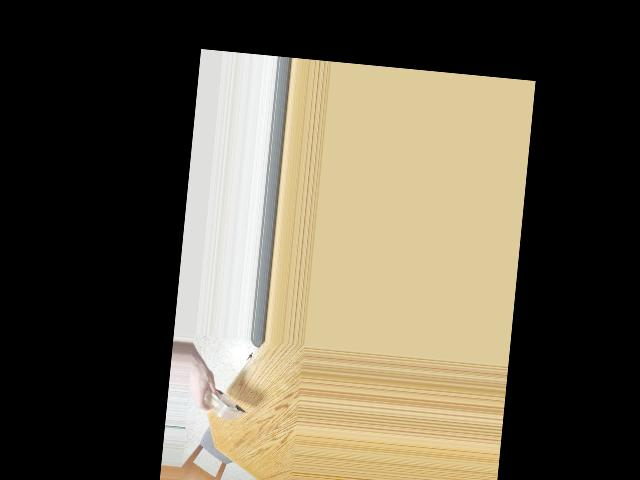cheese: (191, 370, 239, 432)
